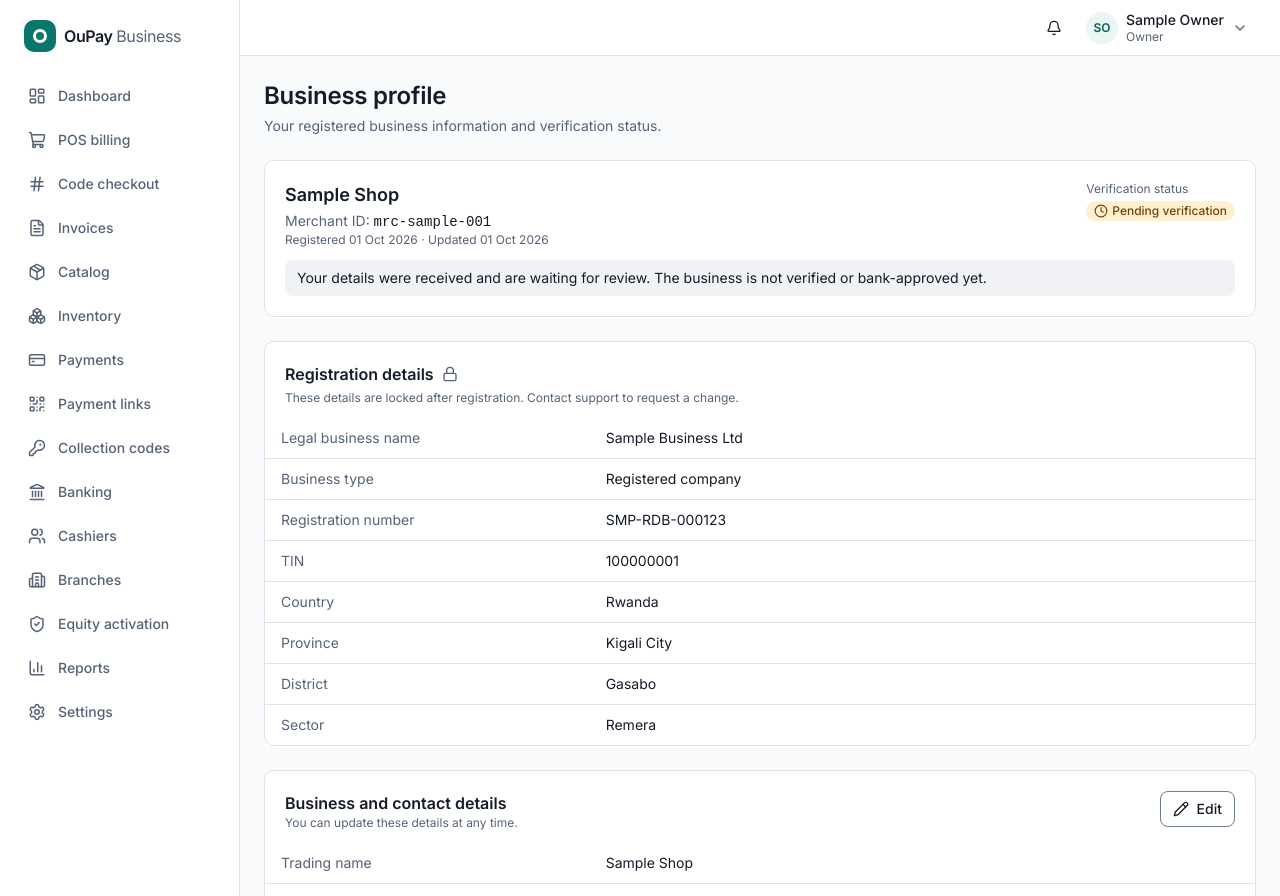
Test: merchant profile › shows an error and keeps the form open when saving fails
The width and height of the screenshot is (1280, 896).
Check: the text "mrc-sample-001" is shown, box [374,214,491,230]
Click the button named "Edit business and contact details": (1197, 809) [1160,791,1235,827]
(page scrolled)
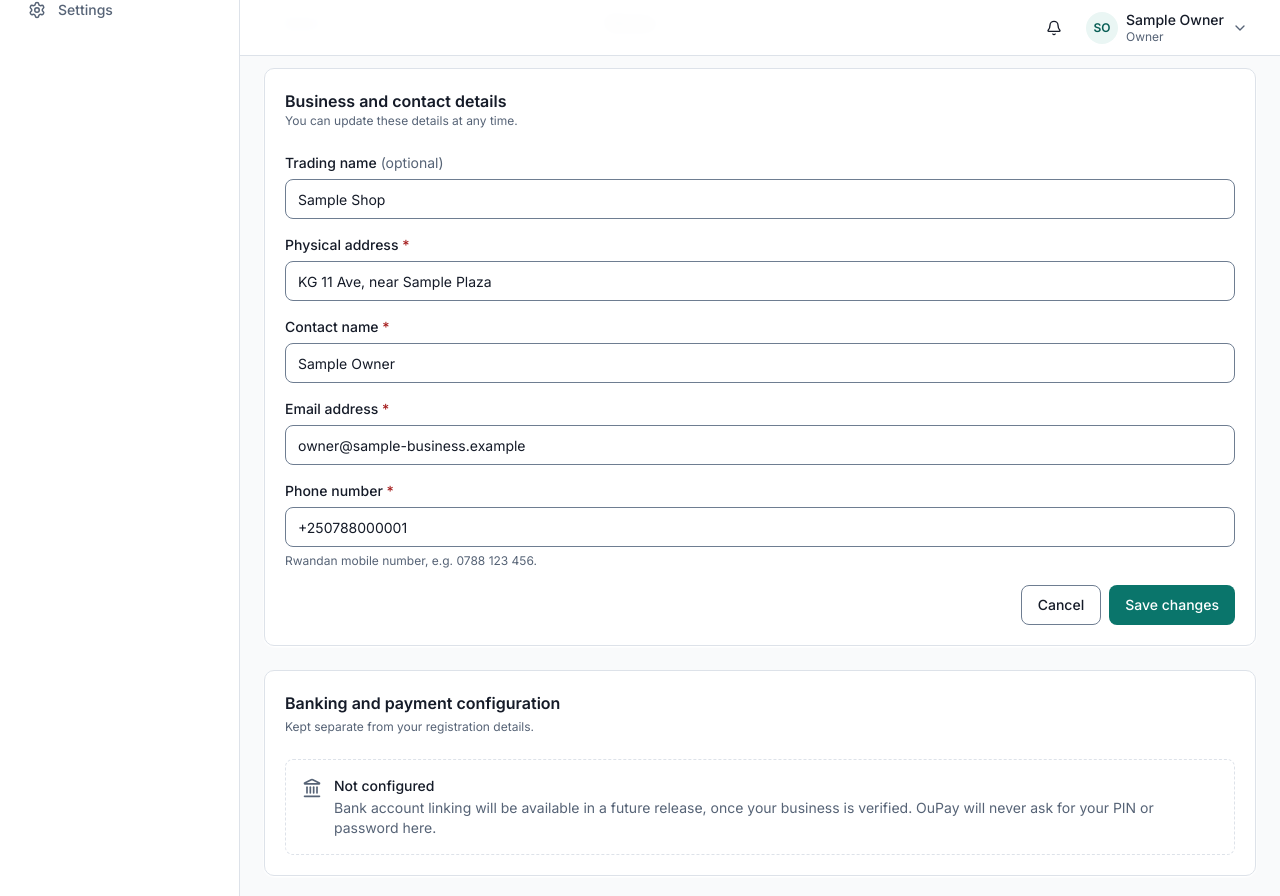
Click the button "Save changes": (1172, 605) [1109,585,1235,625]
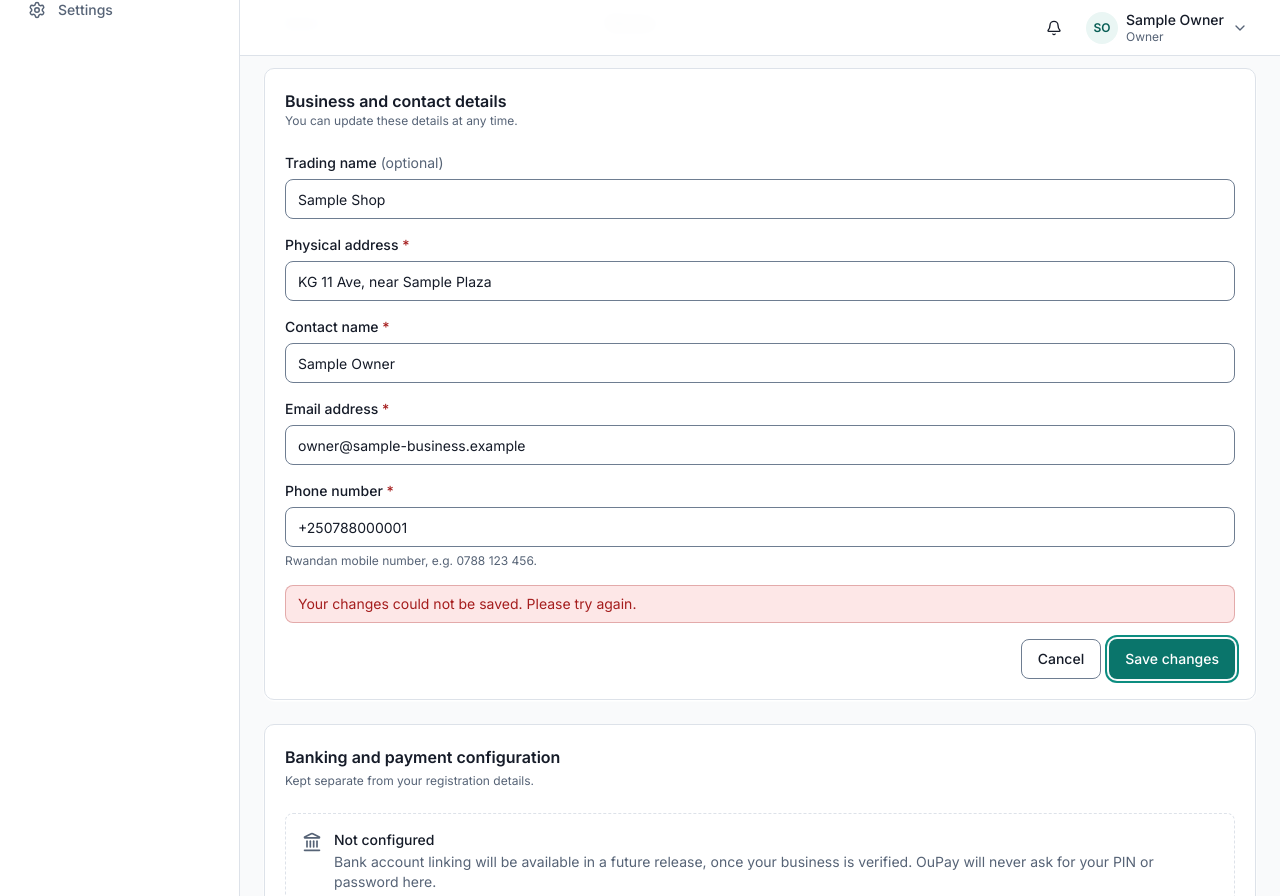
Check: the form named "Edit business details" is shown, box [285,153,1235,679]
Check: the message shows "could not be saved", box [298,595,636,612]
